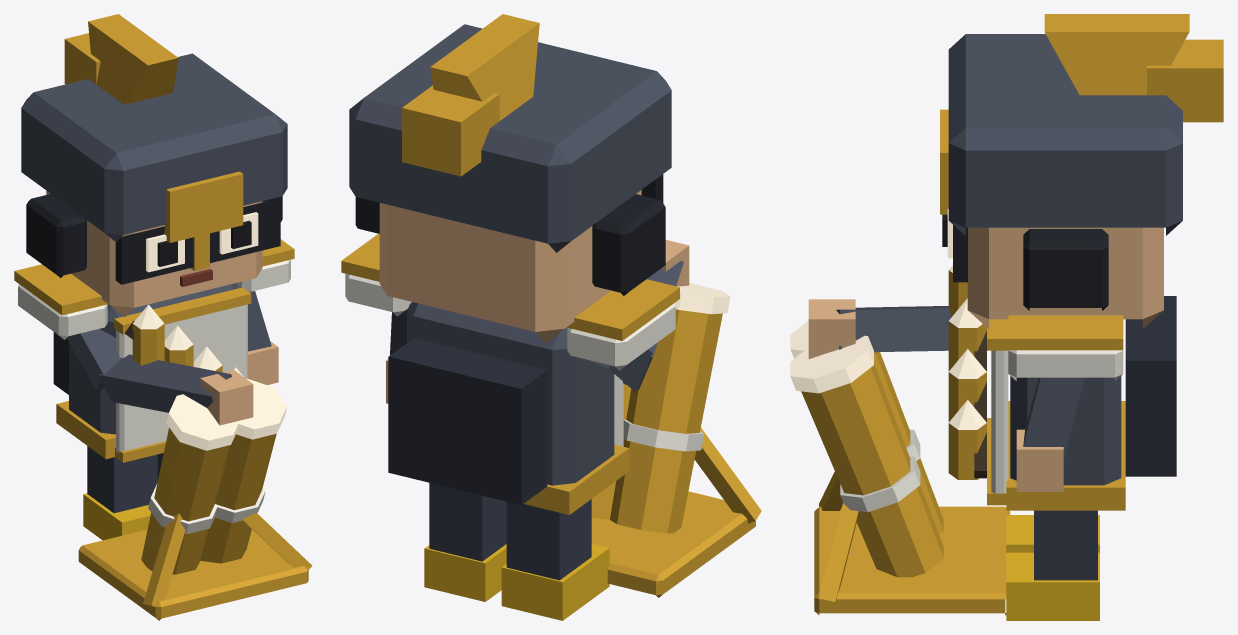
Rendered from mortar_legend.glb.
The picture shows the model from 3 angles, left to right: view 1: azimuth 30°, elevation 25°; view 2: azimuth 150°, elevation 25°; view 3: azimuth 270°, elevation 25°; orthographic projection. The views are drawn at different scales.
Visible parts, largest first — view 1: mortar_legend_mesh; view 2: mortar_legend_mesh; view 3: mortar_legend_mesh.
Boxes of the visible parts, box(x1,y1,x2,y2) form: mortar_legend_mesh: box(14, 14, 312, 620); mortar_legend_mesh: box(341, 14, 761, 620); mortar_legend_mesh: box(790, 14, 1223, 620).
Bounding box in the file's own units: 0.6767 × 1.3 × 0.9048.
Materials: 2 (2 with a texture image).
